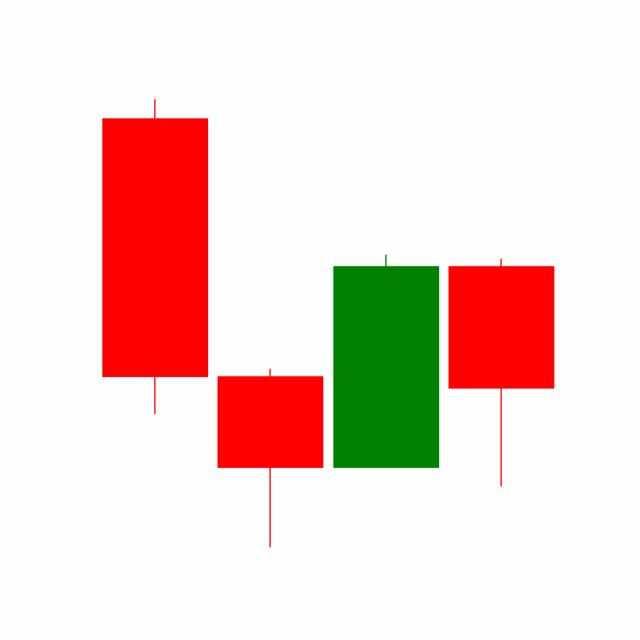Marubozu: (328, 252, 444, 469)
